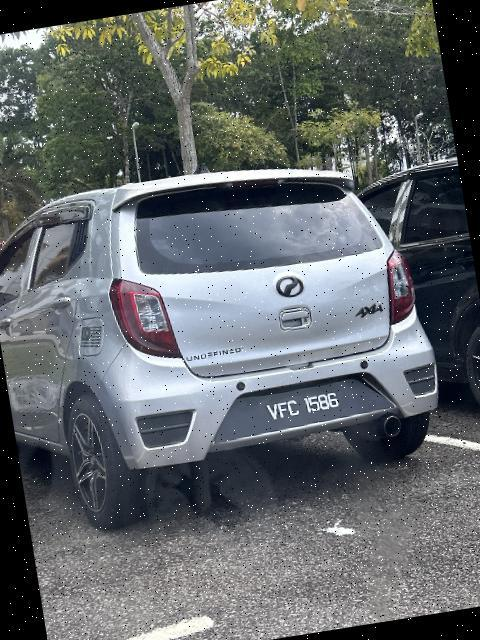License_Plate: (240, 379, 375, 441)
VFC1586: (240, 379, 375, 441)
car: (1, 142, 444, 537)
